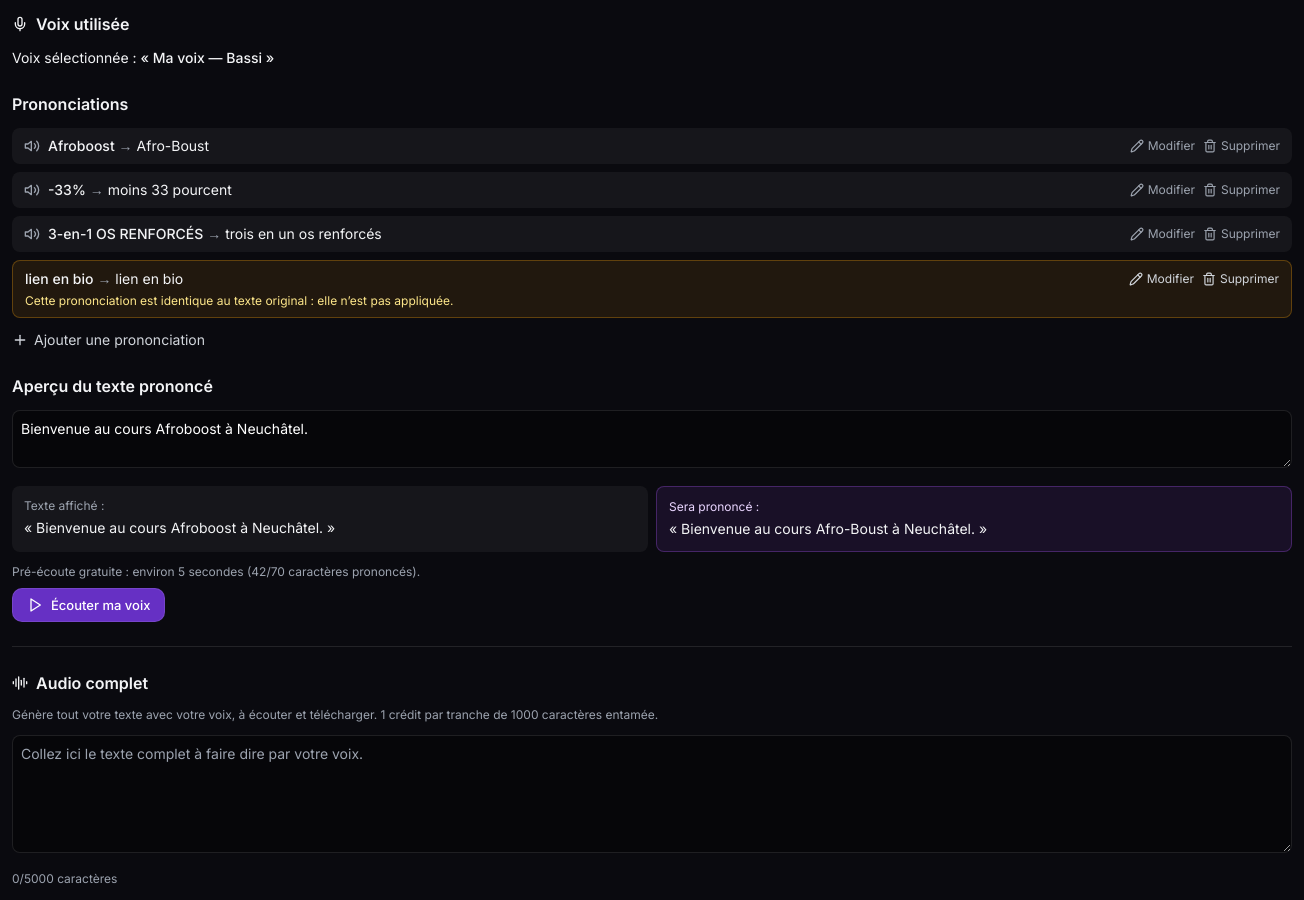
Test case: Entrées identiques déjà enregistrées : signalées, pas appliquées, jamais supprimées en silence › l’écran les signale avec Modifier / Supprimer ; Supprimer retire SEULEMENT celle-là
Check: the list item that starts with "lien en bio" is shown, box x1=12 y1=260 x2=1292 y2=318
Check: the list item that starts with "lien en bio" shows "identique au texte original", box x1=25 y1=293 x2=454 y2=308
Step 1. Click the 4th button "Supprimer" → (1240,279), box x1=1202 y1=271 x2=1279 y2=287
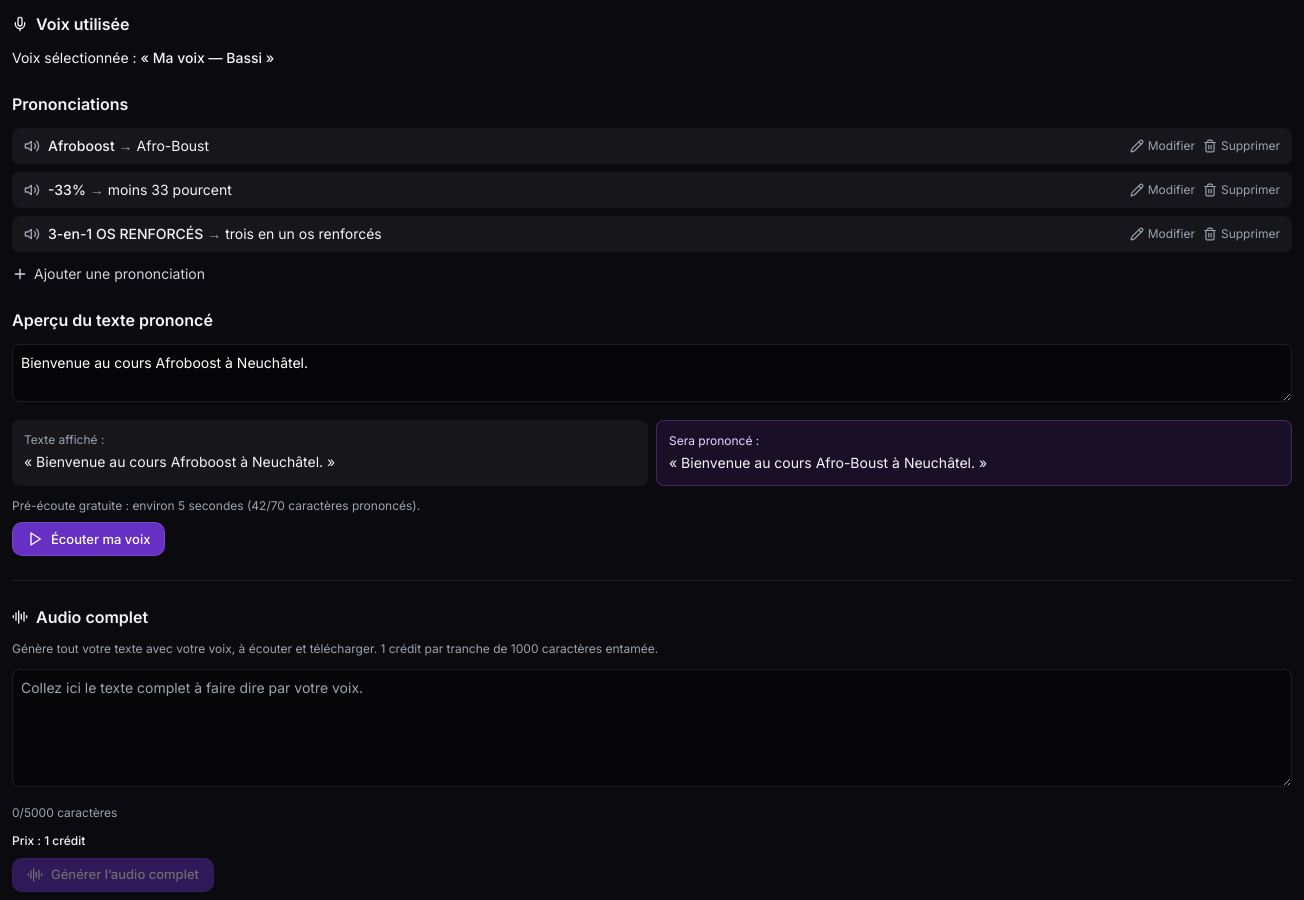
Check: the number of list items is 3, box x1=12 y1=128 x2=1292 y2=164; x1=12 y1=172 x2=1292 y2=208; x1=12 y1=216 x2=1292 y2=252
